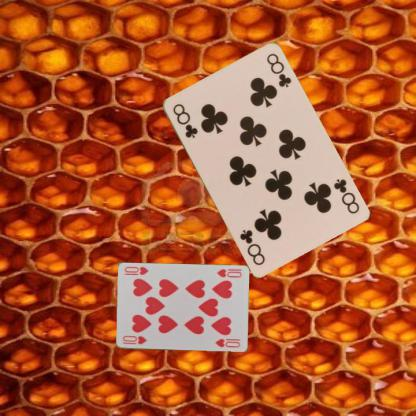10h: (214, 266, 243, 279), (121, 333, 148, 345)
8c: (330, 176, 360, 216), (170, 100, 199, 140)
